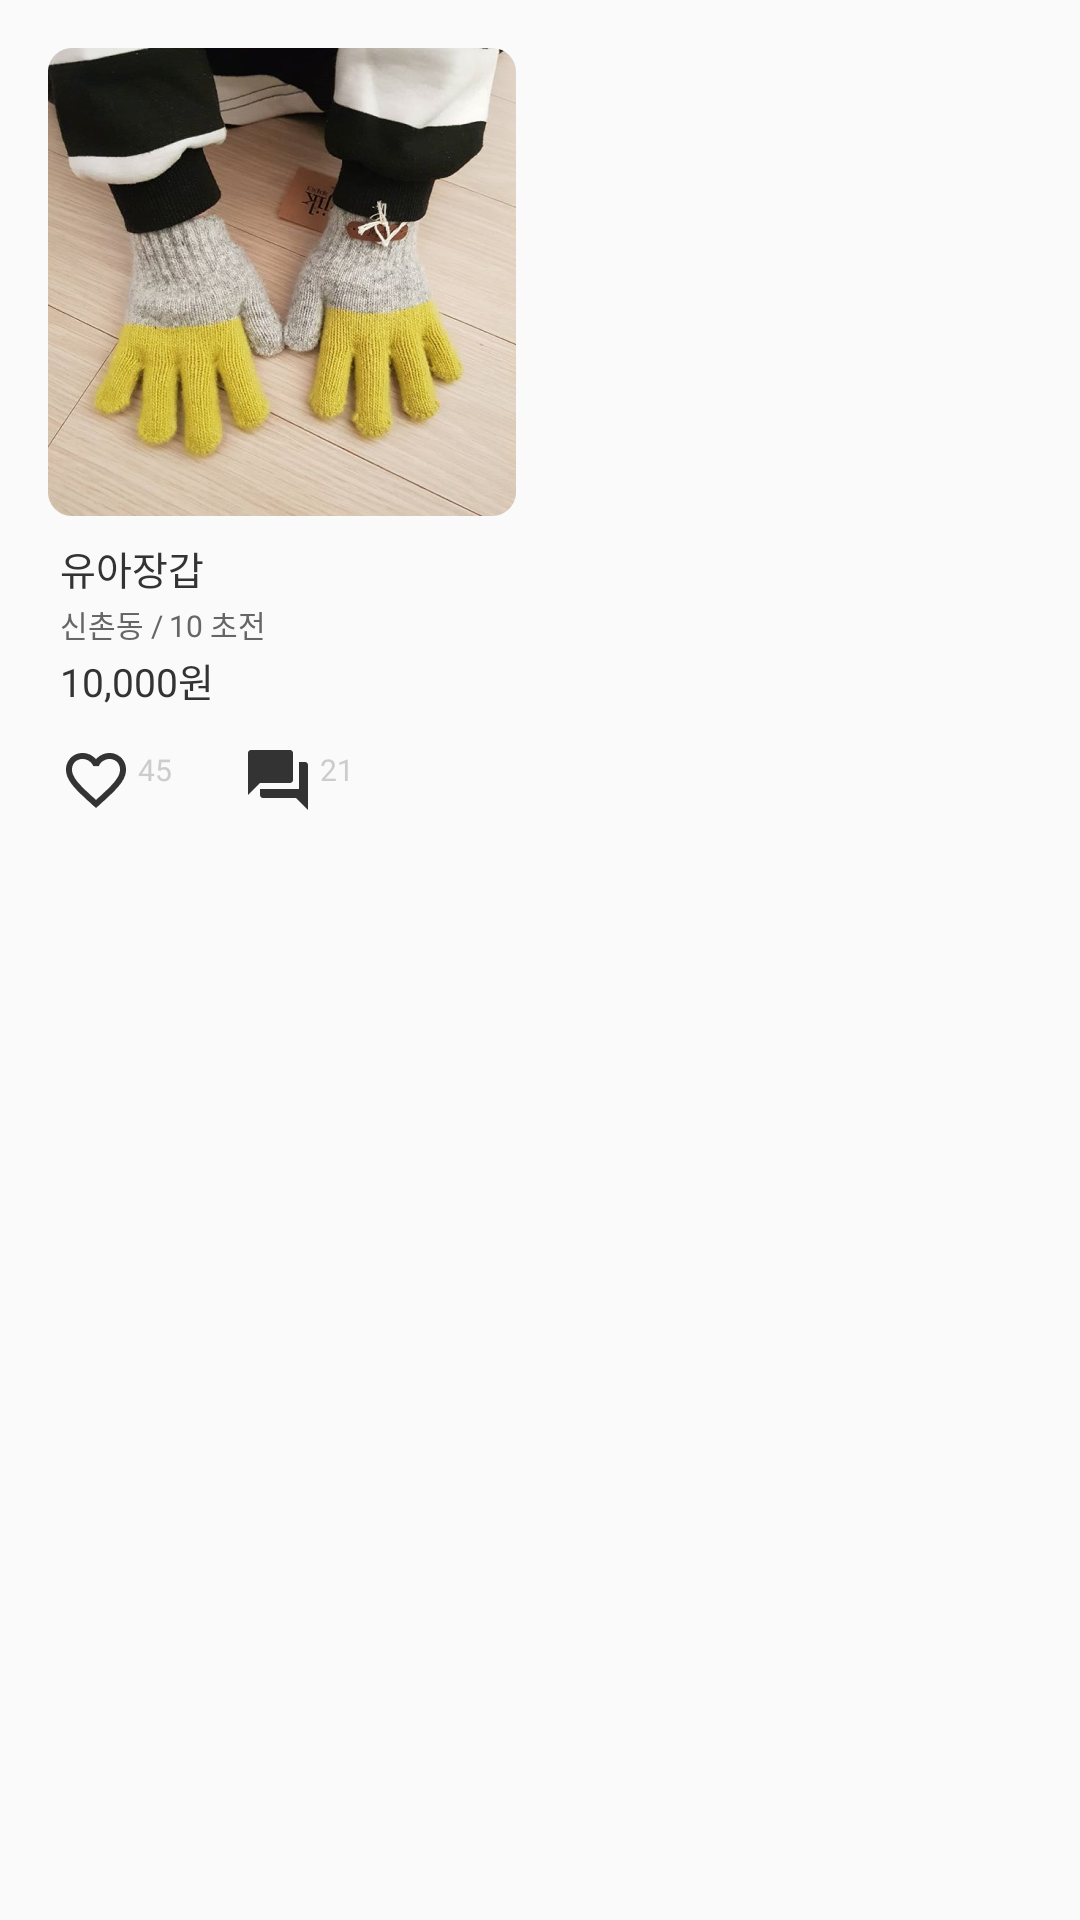

Where icons sit on this 1080px×1920px app screen, as Rect(x1, y1, x2, y2):
favorite border: Rect(66, 753, 126, 808)
